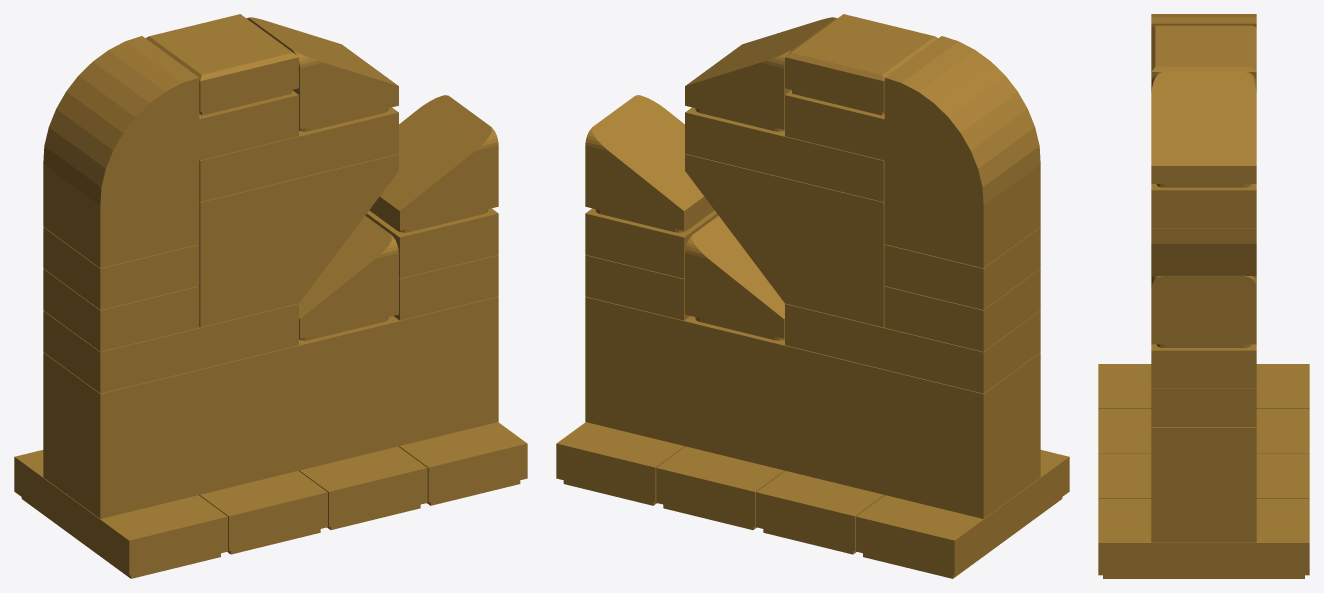
Rendered from Grave Model.dae.
3 renders of one model, left to right at view 1: azimuth 30°, elevation 25°; view 2: azimuth 150°, elevation 25°; view 3: azimuth 270°, elevation 25°, orthographic. The views are drawn at different scales.
Visible parts, largest first — view 1: Part.4, Part.16, Part.8, Part.12, Part.0, Part.6, Part.14, Part.11, Part.7, Part.15, Part.3, Part.1 (+5 smaller); view 2: Part.4, Part.16, Part.8, Part.12, Part.0, Part.6, Part.14, Part.11, Part.7, Part.15, Part.3, Part.1 (+5 smaller); view 3: Part.3, Part.4, Part.15, Part.12, Part.8, Part.14, Part.2, Part.0, Part.1, Part.11, Part.10, Part.5 (+1 smaller).
Boxes of the visible parts, box(x1,y1,x2,y2) form: Part.4: box(43, 297, 498, 518); Part.16: box(43, 36, 298, 268); Part.8: box(199, 154, 398, 327); Part.12: box(369, 95, 498, 232); Part.0: box(14, 450, 227, 578); Part.6: box(43, 303, 298, 393); Part.14: box(145, 14, 298, 115); Part.11: box(199, 107, 398, 201); Part.7: box(299, 215, 398, 340); Part.15: box(246, 17, 398, 131); Part.3: box(398, 422, 527, 505); Part.1: box(199, 471, 327, 554); Part.4: box(585, 297, 1040, 518); Part.16: box(785, 36, 1040, 268); Part.8: box(685, 154, 884, 327); Part.12: box(585, 95, 714, 232); Part.0: box(856, 450, 1069, 578); Part.6: box(785, 303, 1040, 393); Part.14: box(785, 14, 938, 115); Part.11: box(685, 107, 884, 201); Part.7: box(685, 215, 784, 340); Part.15: box(685, 17, 837, 131); Part.3: box(556, 422, 685, 505); Part.1: box(756, 471, 884, 554); Part.3: box(1098, 498, 1309, 578); Part.4: box(1151, 427, 1256, 542); Part.15: box(1151, 71, 1256, 187); Part.12: box(1151, 275, 1256, 347); Part.8: box(1151, 228, 1256, 276); Part.14: box(1151, 25, 1256, 82); Part.2: box(1098, 453, 1309, 498); Part.0: box(1098, 364, 1309, 408); Part.1: box(1098, 409, 1309, 453); Part.11: box(1151, 184, 1256, 228); Part.10: box(1151, 344, 1256, 388); Part.5: box(1151, 388, 1256, 426).
Bounding box in the file's own units: 31.92 × 35.16 × 15.92.
